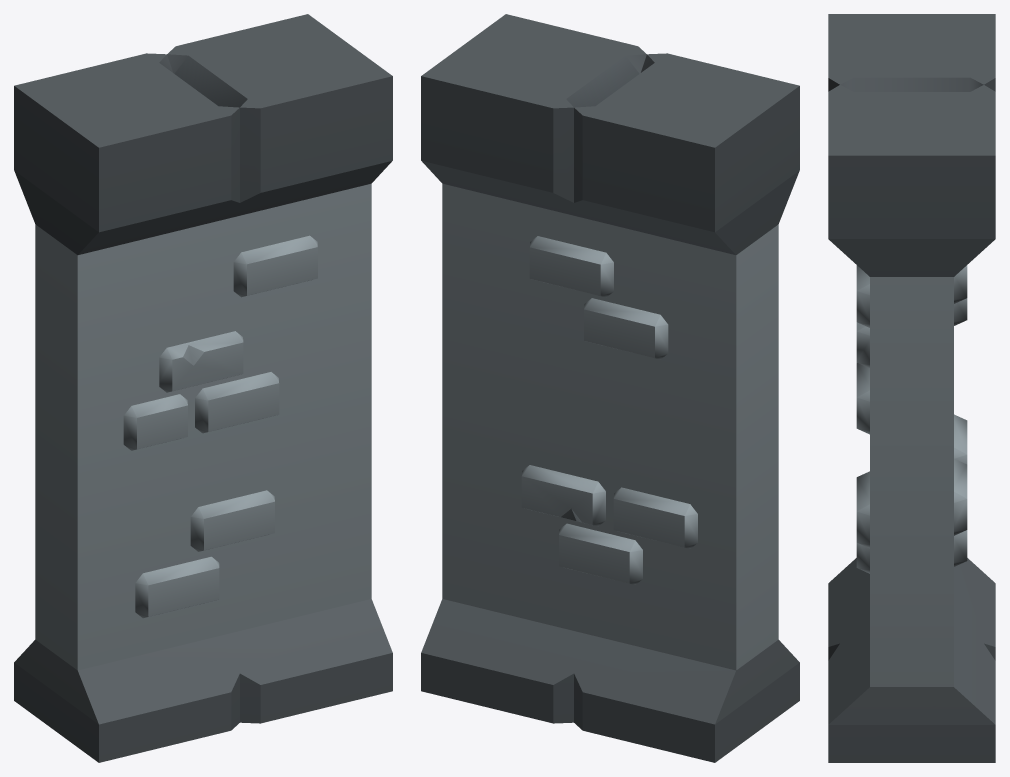
The model's file is wall_half.gltf.
3 renders of one model, left to right at view 1: azimuth 30°, elevation 25°; view 2: azimuth 150°, elevation 25°; view 3: azimuth 270°, elevation 25°, orthographic.
Visible parts, largest first — view 1: wall_half; view 2: wall_half; view 3: wall_half.
Boxes of the visible parts, bbox=[...] form: wall_half: bbox=[14, 14, 392, 762]; wall_half: bbox=[421, 14, 799, 762]; wall_half: bbox=[828, 14, 995, 762].
Size of the model in its own units: 2 by 4 by 1.
Materials: 1 (1 with a texture image).
